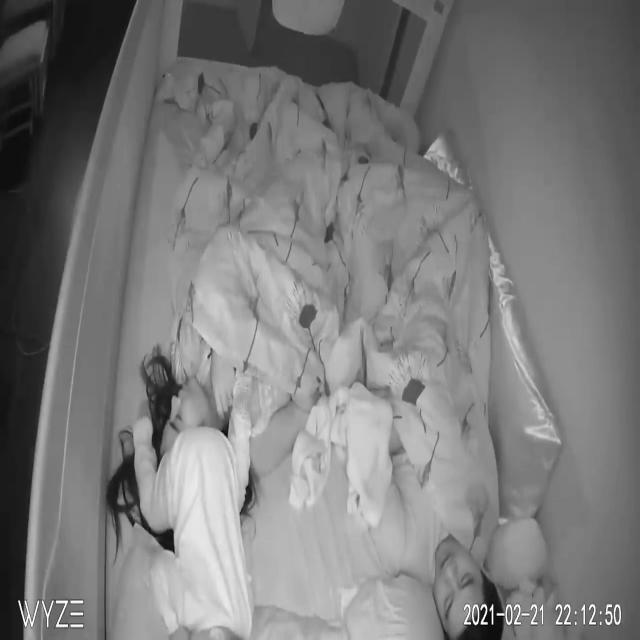baby: (132, 401, 255, 640)
